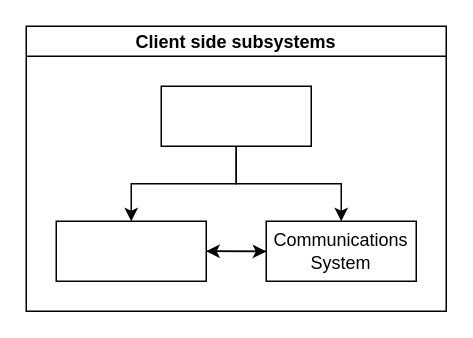
This 473x338 diagram has some shape labels left out. Each missing label, with the centre of its shape:
"Render System" goes at [130,250].
"Website/App" goes at [235,115].
